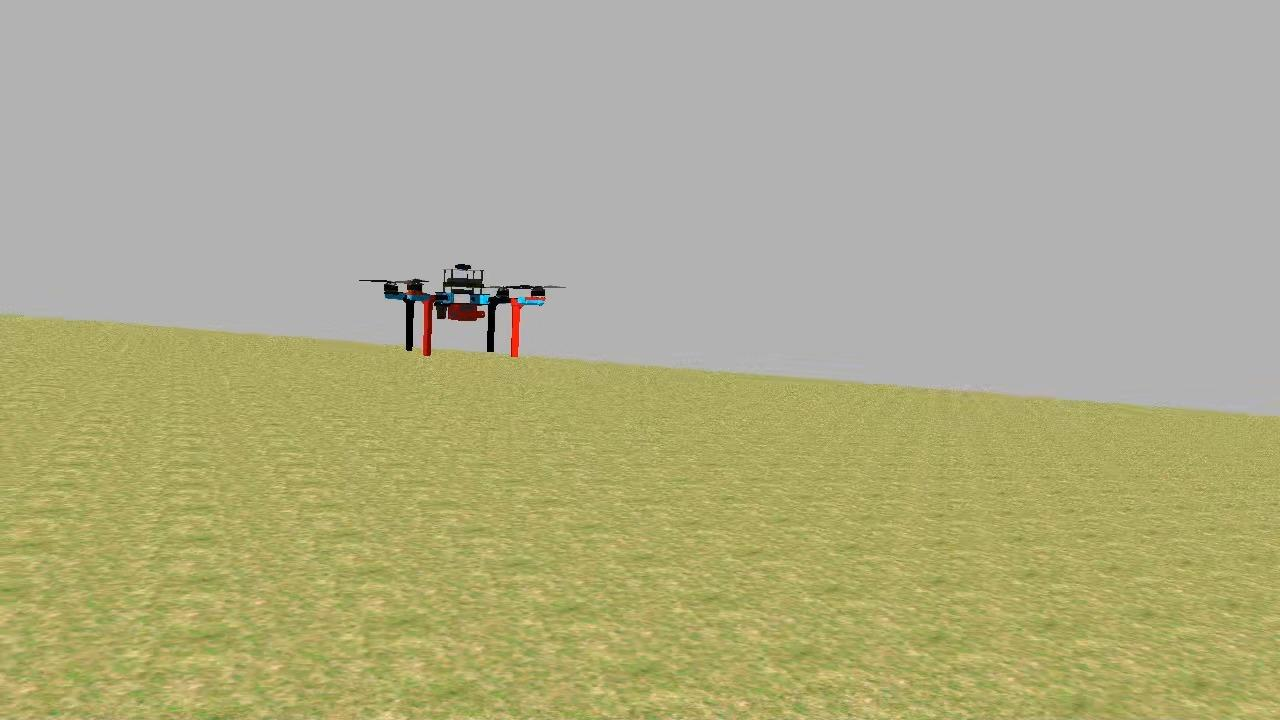UAV: (382, 258, 554, 358)
